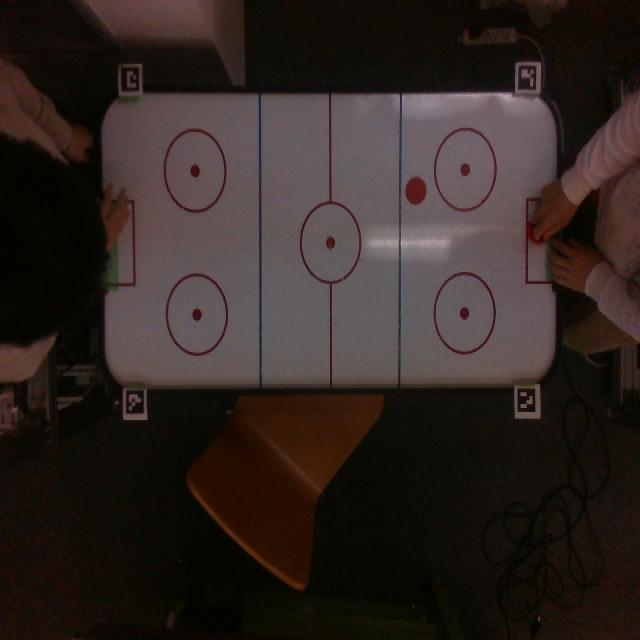puck: (406, 177, 426, 204)
